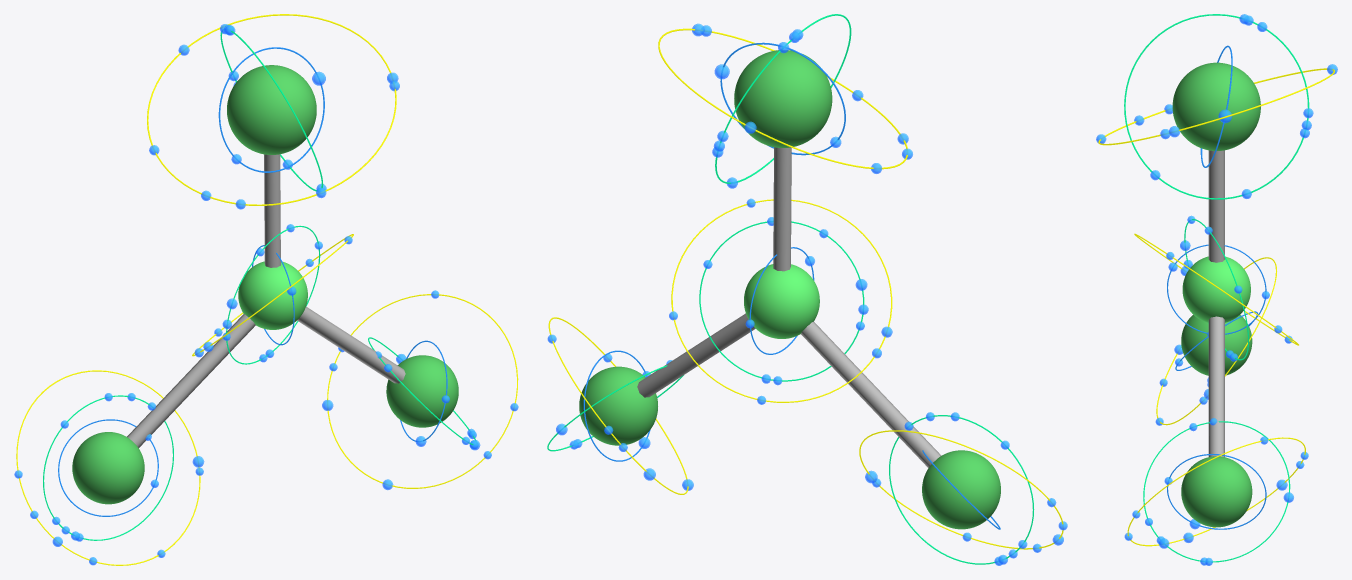
Rendered from PCl3.glb.
3 renders of one model, left to right at view 1: azimuth 30°, elevation 25°; view 2: azimuth 150°, elevation 25°; view 3: azimuth 270°, elevation 25°, orthographic. The views are drawn at different scales.
Parts seen in each view (by area): view 1: Cl (×3), P, object 151, object 150, object 149, object 134, object 96, object 58, object 112, object 41; view 2: Cl (×3), P, object 151, object 150, object 149, object 24, object 134, object 58, object 7, object 41, object 117, object 96 (+1 smaller); view 3: Cl (×3), P, object 150, object 149, object 117, object 134, object 79, object 96, object 24, object 58, object 74, object 2 (+2 smaller).
Boxes of the visible parts, bbox=[...] form: Cl (×3): bbox=[72, 65, 458, 504]; P: bbox=[238, 261, 307, 329]; object 151: bbox=[127, 314, 255, 447]; object 150: bbox=[297, 306, 405, 383]; object 149: bbox=[264, 154, 280, 267]; object 134: bbox=[147, 14, 396, 205]; object 96: bbox=[327, 294, 518, 488]; object 58: bbox=[16, 370, 200, 565]; object 112: bbox=[218, 47, 324, 172]; object 41: bbox=[43, 395, 173, 540]; Cl (×3): bbox=[579, 50, 1000, 529]; P: bbox=[744, 264, 819, 338]; object 151: bbox=[801, 321, 941, 467]; object 150: bbox=[637, 313, 755, 397]; object 149: bbox=[773, 147, 791, 271]; object 24: bbox=[671, 199, 892, 402]; object 134: bbox=[658, 28, 907, 169]; object 58: bbox=[859, 430, 1063, 549]; object 7: bbox=[699, 221, 864, 381]; object 41: bbox=[889, 415, 1034, 564]; object 117: bbox=[715, 14, 851, 183]; object 96: bbox=[548, 317, 688, 494]; Cl (×3): bbox=[1172, 62, 1260, 527]; P: bbox=[1182, 256, 1250, 322]; object 150: bbox=[1208, 316, 1224, 456]; object 149: bbox=[1208, 150, 1224, 262]; object 117: bbox=[1124, 14, 1309, 199]; object 134: bbox=[1098, 68, 1334, 145]; object 79: bbox=[1143, 421, 1290, 562]; object 96: bbox=[1127, 437, 1305, 546]; object 24: bbox=[1134, 233, 1298, 345]; object 58: bbox=[1156, 257, 1276, 425]; object 74: bbox=[1167, 454, 1266, 529]; object 2: bbox=[1167, 244, 1266, 334].
Bounding box in the file's own units: 12.97 × 12.47 × 5.86.
